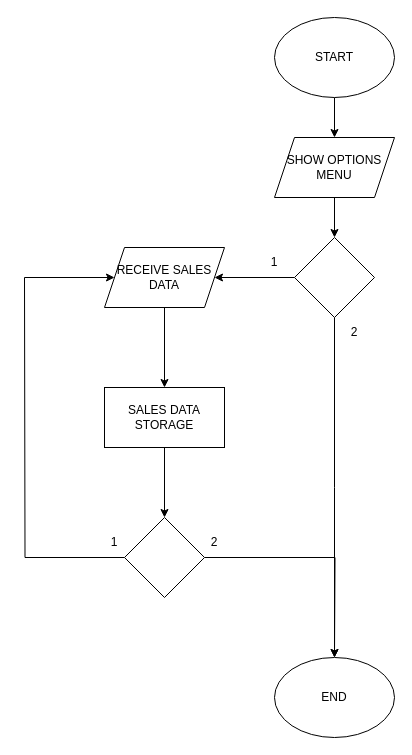
This 412x755 diagram has some shape labels left out. The centre of each missing label's shape, as x and y in pixels:
"CONTINUAR HACIENDO VENTAS O SALIR DEL SISTEMA" goes at (x=164, y=557).
"IF YOU WANT TO ENTER A SALE OR EXIT THE PROGRAM" goes at (x=334, y=277).
